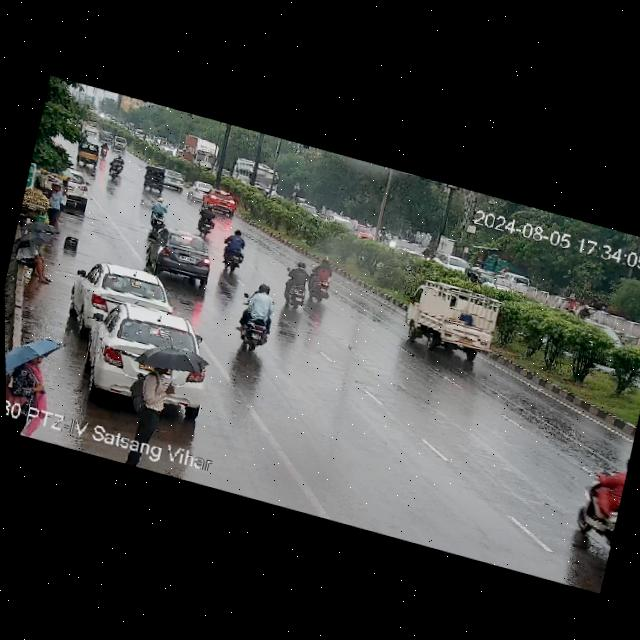bus: (230, 156, 283, 196)
car: (82, 297, 219, 417), (71, 255, 175, 335), (147, 228, 217, 283), (575, 317, 625, 347), (205, 186, 241, 218), (432, 250, 476, 272), (187, 177, 216, 204), (139, 166, 167, 193), (75, 142, 103, 169), (469, 266, 499, 288), (159, 169, 184, 193), (353, 223, 378, 243), (150, 202, 168, 227), (637, 322, 640, 354)
motorcycle: (574, 455, 628, 539), (231, 280, 283, 353), (281, 260, 316, 314), (306, 256, 340, 307), (221, 231, 251, 272), (195, 199, 216, 234)
person: (120, 358, 172, 467), (5, 347, 56, 437), (9, 232, 60, 285), (38, 184, 70, 237)
truck: (406, 279, 496, 363), (179, 132, 222, 179)
